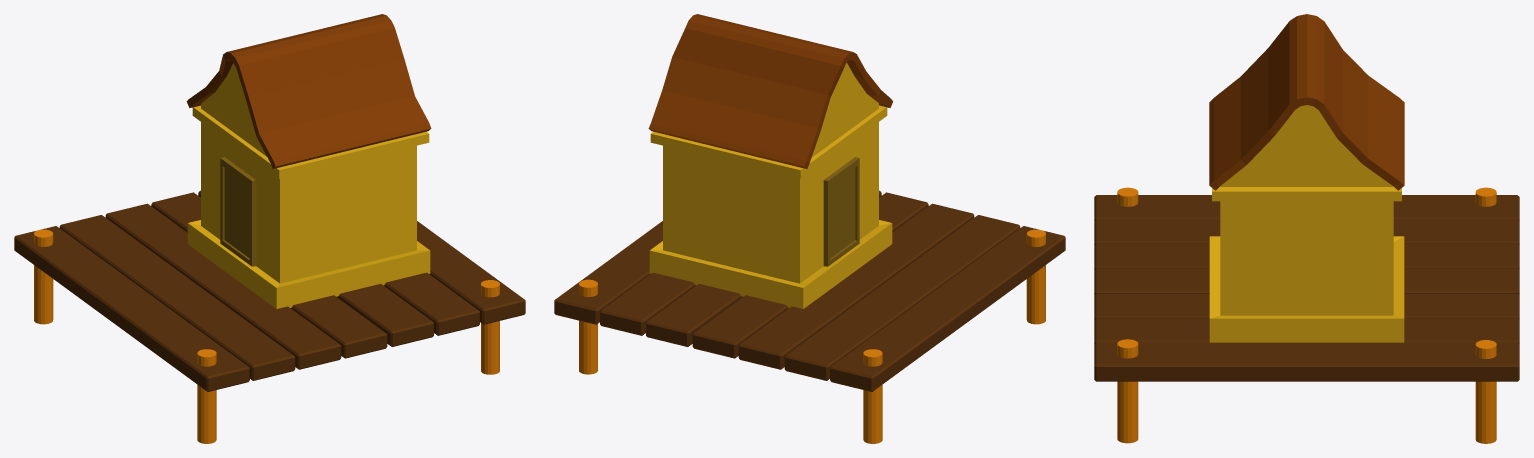
Rendered from village House 3.glb.
The picture shows the model from 3 angles, left to right: view 1: azimuth 30°, elevation 25°; view 2: azimuth 150°, elevation 25°; view 3: azimuth 270°, elevation 25°; orthographic projection. The views are drawn at different scales.
Visible parts, largest first — view 1: Cube.004; view 2: Cube.004; view 3: Cube.004.
Boxes of the visible parts, x1,y1,x2,y2 form: Cube.004: (14, 14, 525, 443); Cube.004: (554, 14, 1065, 443); Cube.004: (1094, 14, 1519, 443).
Size of the model in its own units: 7.66 by 6.89 by 8.05.
